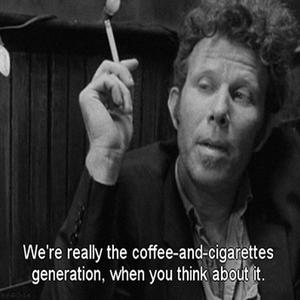cigarette: (105, 17, 119, 67)
